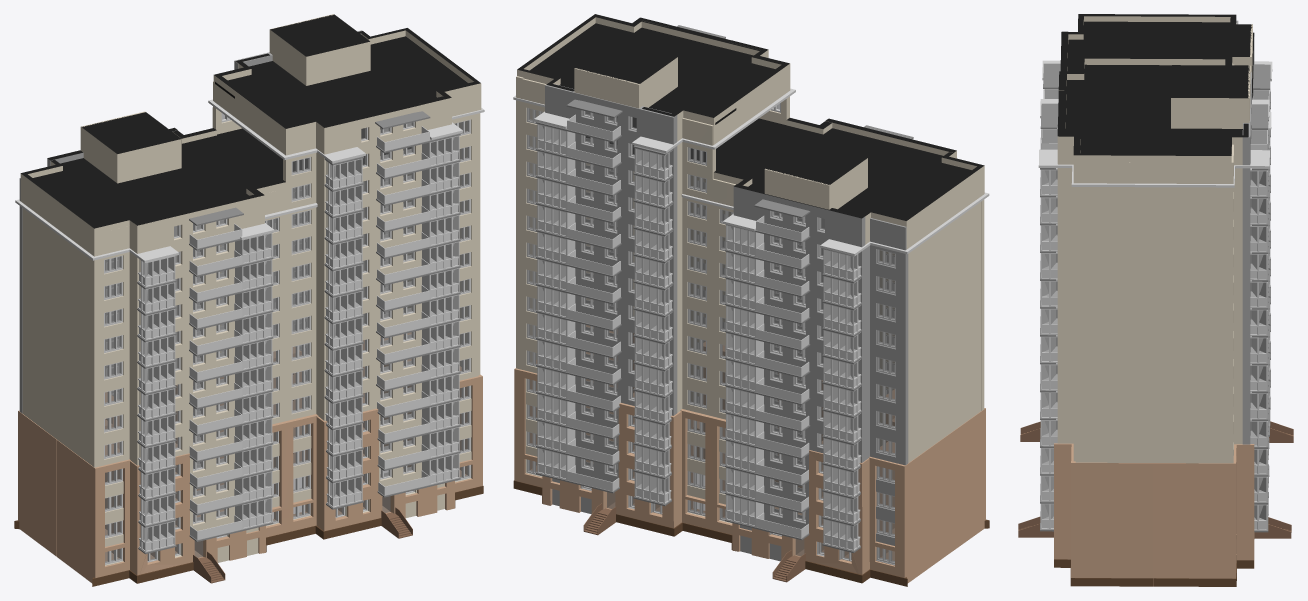
Rendered from Building.FBX.
3 renders of one model, left to right at view 1: azimuth 30°, elevation 25°; view 2: azimuth 150°, elevation 25°; view 3: azimuth 270°, elevation 25°, orthographic. The views are drawn at different scales.
Visible parts, largest first — view 1: 3333381.33, STEN_RED05, okN09.okN0, ygol23, okN06.okN0, DOM_2_kri0, DOM_2_kri1, Rectangle2, B11.B13, DOM_05, DOM_6, STEN_RED01 (+11 smaller); view 2: 3333381, STEN_RED01, okN09, ygol23, okN06, DOM_2_kri0, Rectangle3, DOM_2_kri1, B11, STEN_RED05, DOM_05, Box01 (+12 smaller); view 3: ygol24, STEN_RED01, STEN_RED05, DOM_2_kri1, 3333381, 3333381.33, DOM_05, Box03, DOM_2_kri0, okN09.okN0, okN09, Box01 (+5 smaller).
Part boxes in pixels (x1=…): 3333381.33: x1=104, y1=111, x2=470, y2=564; STEN_RED05: x1=57, y1=359, x2=483, y2=586; okN09.okN0: x1=321, y1=96, x2=444, y2=517; ygol23: x1=22, y1=208, x2=91, y2=464; okN06.okN0: x1=134, y1=193, x2=264, y2=562; DOM_2_kri0: x1=33, y1=128, x2=411, y2=225; DOM_2_kri1: x1=215, y1=36, x2=467, y2=125; Rectangle2: x1=263, y1=129, x2=316, y2=526; B11.B13: x1=91, y1=225, x2=129, y2=565; DOM_05: x1=213, y1=28, x2=481, y2=155; DOM_6: x1=20, y1=128, x2=285, y2=256; STEN_RED01: x1=14, y1=332, x2=411, y2=556; 3333381: x1=526, y1=99, x2=895, y2=564; STEN_RED01: x1=513, y1=352, x2=945, y2=586; okN09: x1=545, y1=84, x2=677, y2=514; ygol23: x1=908, y1=202, x2=981, y2=462; okN06: x1=733, y1=184, x2=865, y2=561; DOM_2_kri0: x1=586, y1=117, x2=971, y2=217; Rectangle3: x1=682, y1=118, x2=735, y2=523; DOM_2_kri1: x1=530, y1=23, x2=775, y2=124; B11: x1=870, y1=218, x2=908, y2=565; STEN_RED05: x1=586, y1=325, x2=989, y2=556; DOM_05: x1=517, y1=14, x2=790, y2=144; Box01: x1=764, y1=141, x2=867, y2=209; ygol24: x1=1075, y1=159, x2=1233, y2=463; STEN_RED01: x1=1153, y1=421, x2=1293, y2=586; STEN_RED05: x1=1018, y1=421, x2=1153, y2=586; DOM_2_kri1: x1=1065, y1=64, x2=1242, y2=153; 3333381: x1=1250, y1=64, x2=1270, y2=532; 3333381.33: x1=1040, y1=63, x2=1060, y2=531; DOM_05: x1=1057, y1=56, x2=1248, y2=183; Box03: x1=1171, y1=65, x2=1250, y2=128; DOM_2_kri0: x1=1067, y1=21, x2=1230, y2=71; okN09.okN0: x1=1057, y1=74, x2=1066, y2=443; okN09: x1=1242, y1=72, x2=1251, y2=444; Box01: x1=1173, y1=24, x2=1252, y2=77.
Size of the model in its own units: 2338 by 2469 by 1354.
